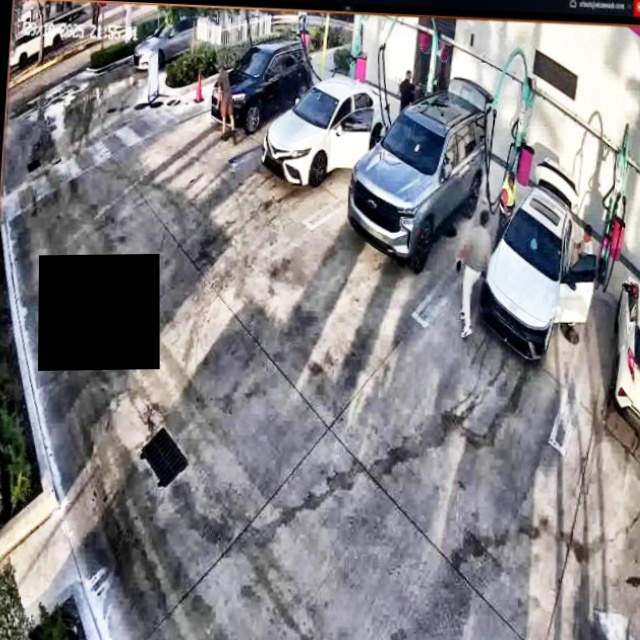Car: (343, 80, 496, 272), (471, 176, 602, 361), (261, 68, 390, 189)
